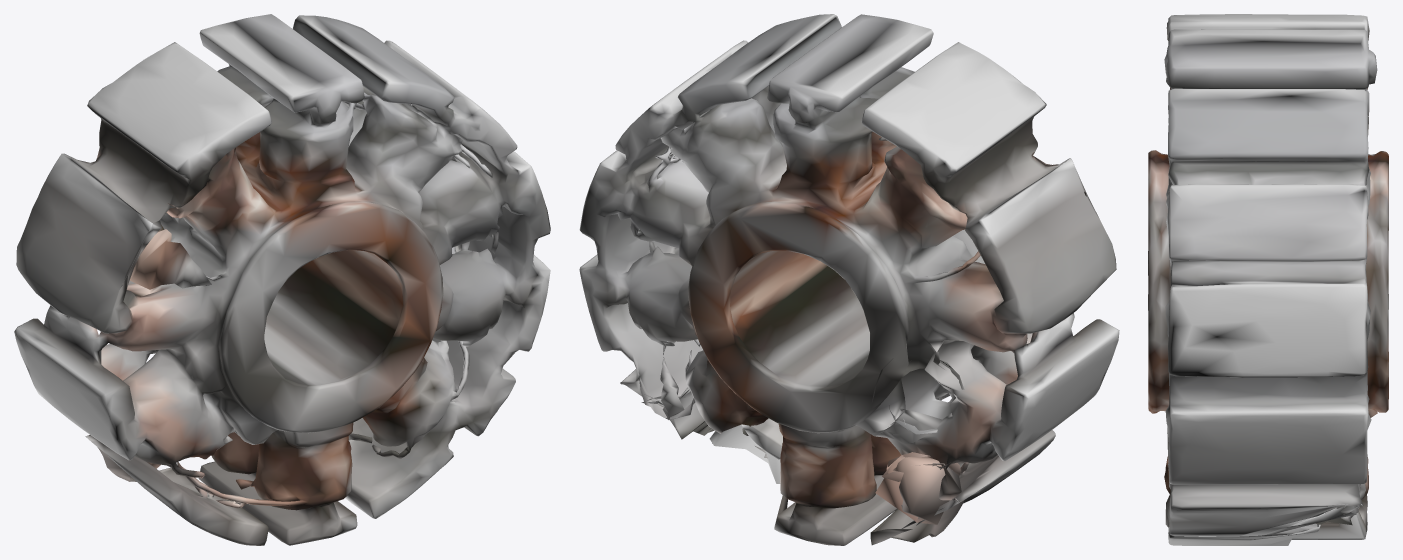
Rendered from motor_defect.glb.
The picture shows the model from 3 angles, left to right: view 1: azimuth 30°, elevation 25°; view 2: azimuth 150°, elevation 25°; view 3: azimuth 270°, elevation 25°; orthographic projection. The views are drawn at different scales.
Parts seen in each view (by area): view 1: tmp85a5xu6d.ply; view 2: tmp85a5xu6d.ply; view 3: tmp85a5xu6d.ply.
Part boxes in pixels (left/top/right/bottom): tmp85a5xu6d.ply: left=14, top=14, right=550, bottom=545; tmp85a5xu6d.ply: left=579, top=14, right=1119, bottom=545; tmp85a5xu6d.ply: left=1148, top=14, right=1388, bottom=545.
Size of the model in its own units: 0.9997 by 0.9664 by 0.4377.
